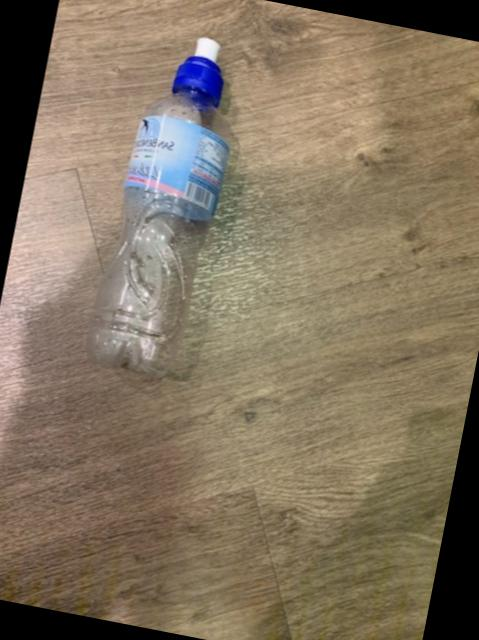plastic: (88, 35, 229, 374)
